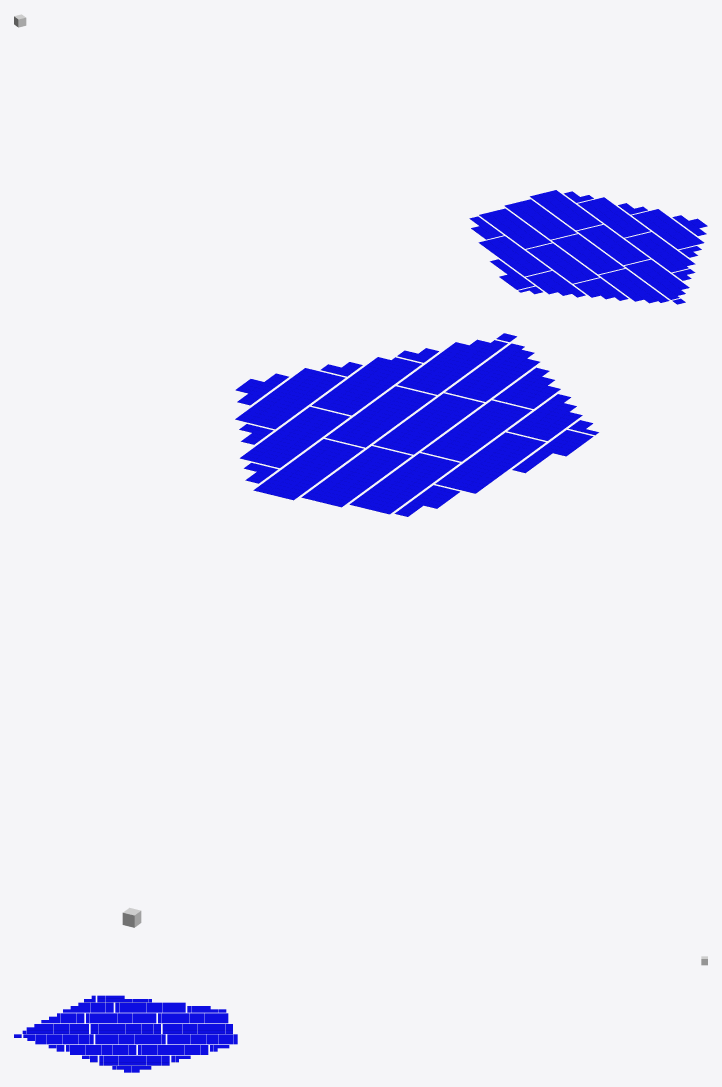
The model's file is blender5.gltf.
3 renders of one model, top to bottom at view 1: azimuth 30°, elevation 25°; view 2: azimuth 150°, elevation 25°; view 3: azimuth 270°, elevation 25°, orthographic. The views are drawn at different scales.
Bounding box in the file's own units: 79.72 × 2 × 205.
